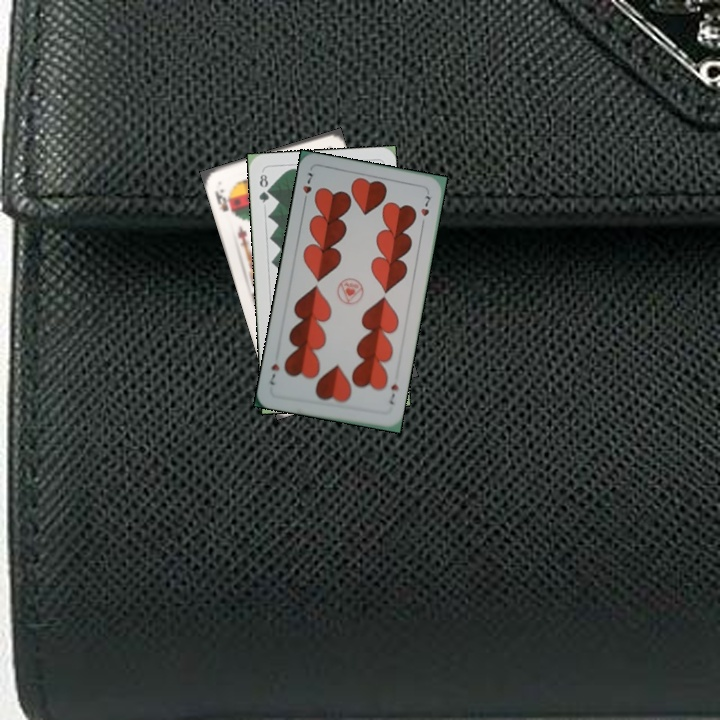G8: (255, 170, 272, 205)
H7: (299, 168, 317, 207), (385, 380, 401, 407)
SK: (211, 185, 237, 219)
